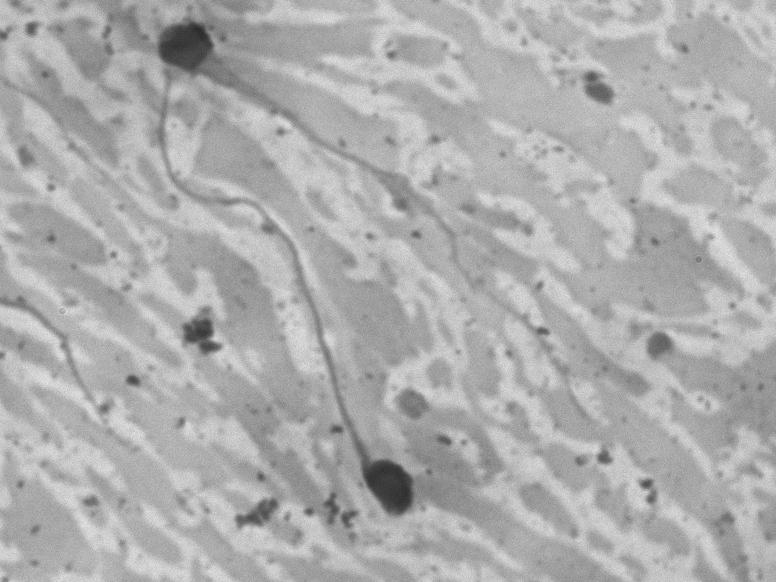Abnormal: (146, 8, 618, 452), (130, 232, 477, 542)
